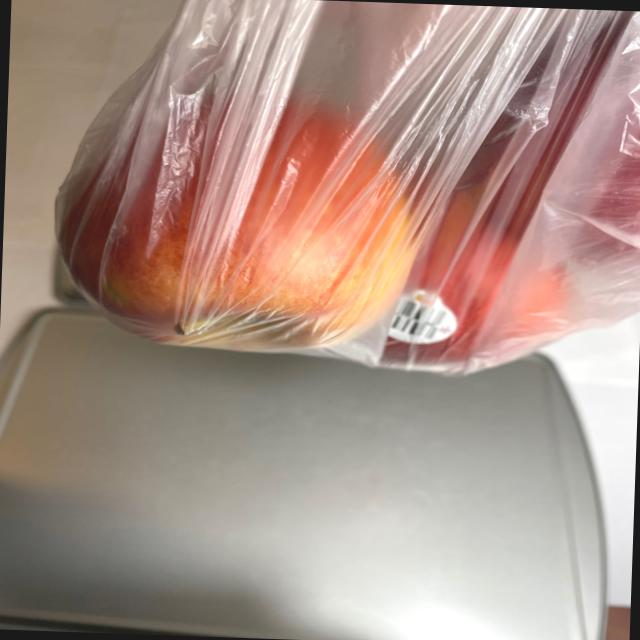apple: (48, 39, 640, 380)
